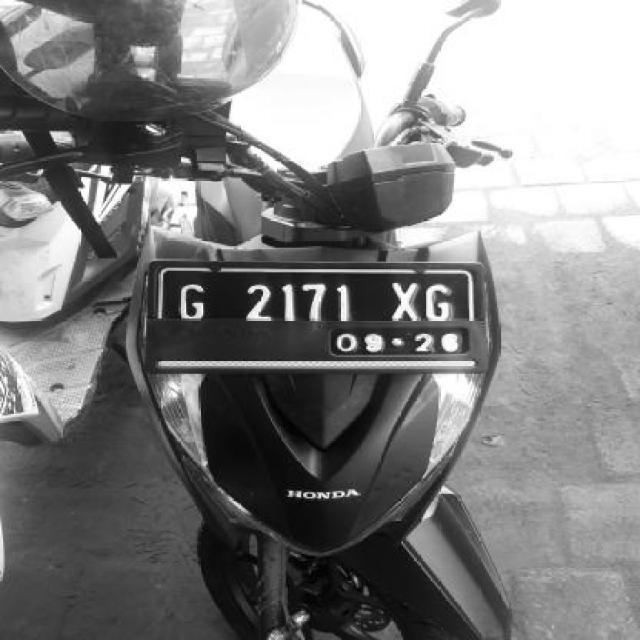1: (333, 280, 354, 323), (280, 282, 299, 325)
2: (246, 280, 274, 322)
7: (302, 273, 326, 330)
G: (172, 277, 214, 320), (424, 276, 458, 322)
X: (387, 276, 422, 326)
